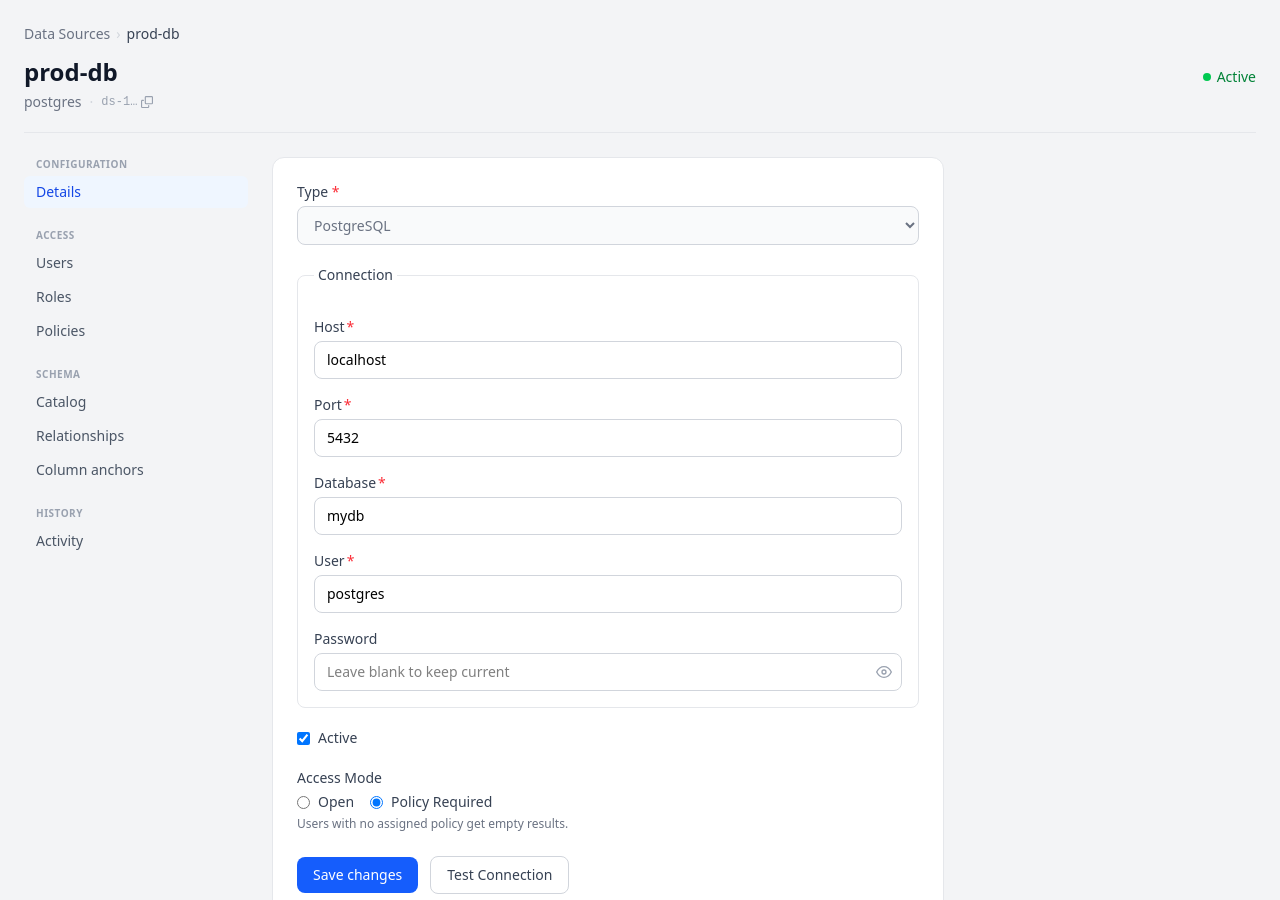
Scenario: DataSourceEditPage › renders read-only Policy Assignments under the Policies section
Expected: the button "Save changes" is shown, [297, 857, 418, 893]
Click the button "Policies": click(136, 331) [24, 315, 248, 347]
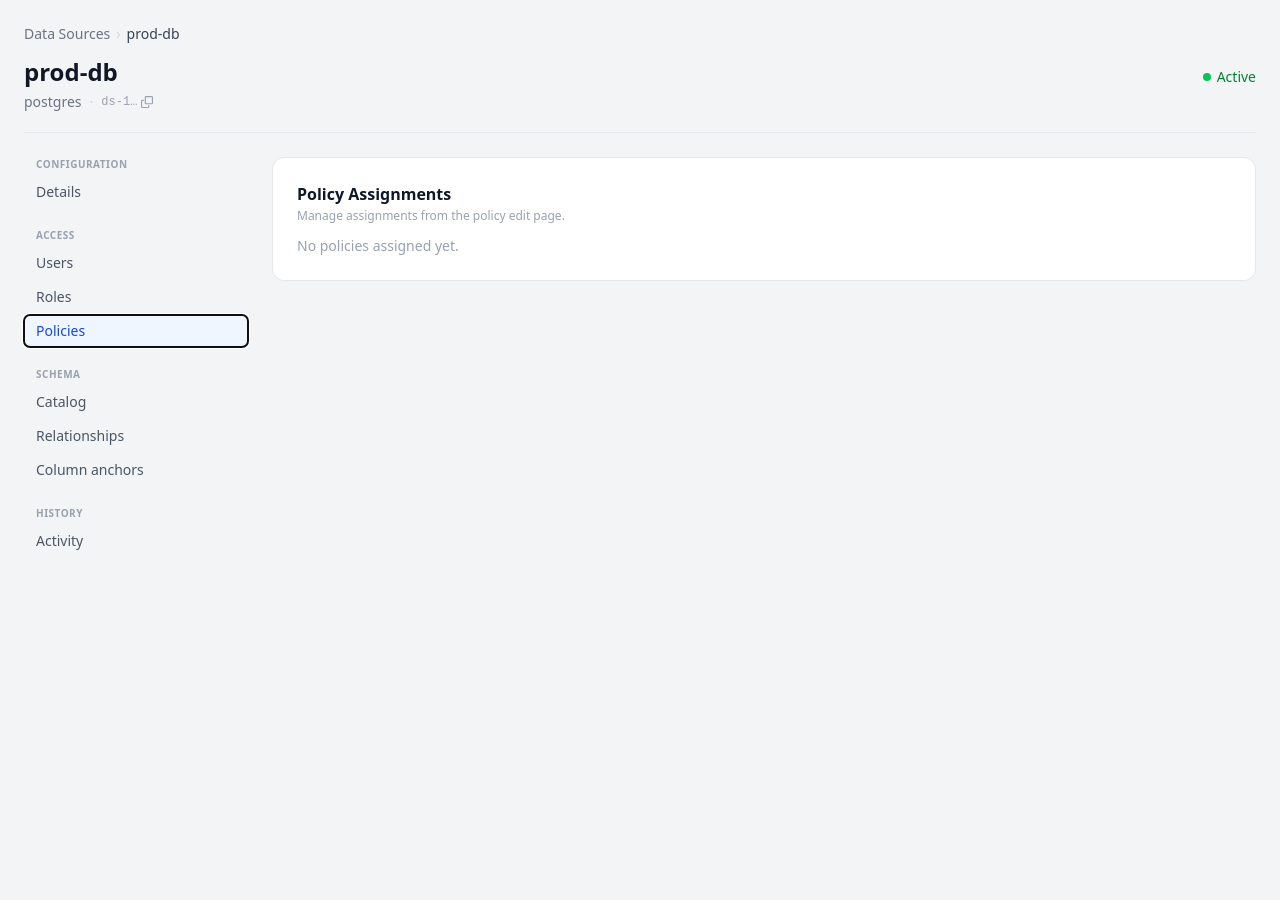
Expected: the heading "Policy Assignments" is shown, [297, 183, 451, 205]
Expected: the text "Manage assignments from the policy edit page." is shown, [297, 208, 565, 224]
